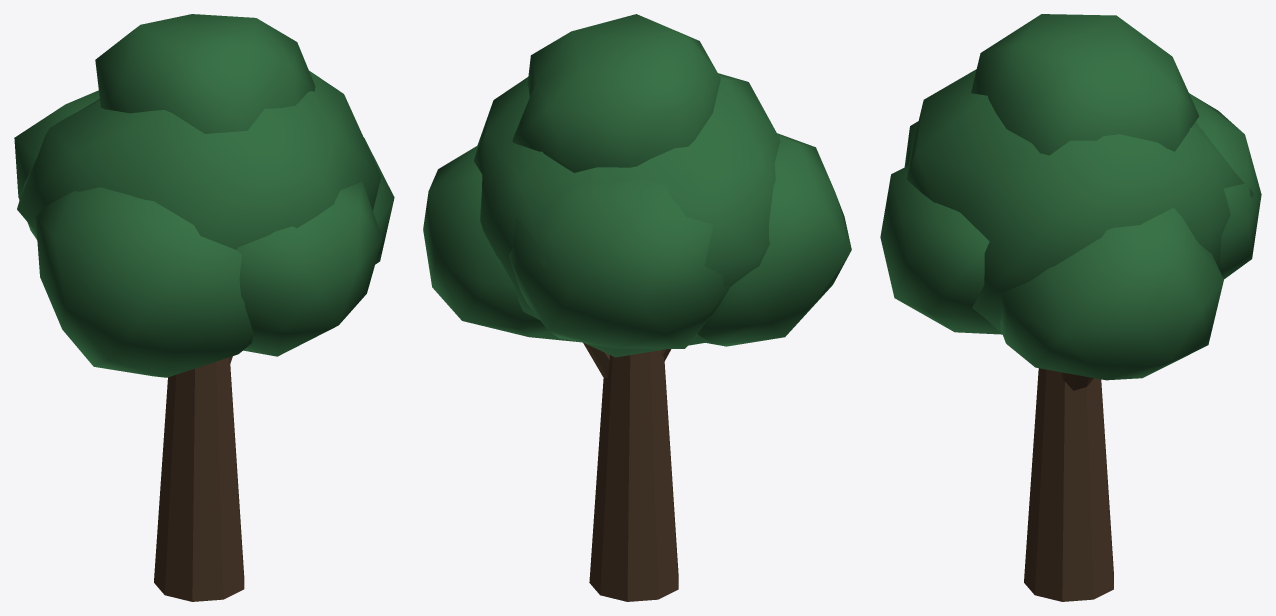
Rendered from broadleaf.glb.
3 renders of one model, left to right at view 1: azimuth 30°, elevation 25°; view 2: azimuth 150°, elevation 25°; view 3: azimuth 270°, elevation 25°, orthographic.
Parts seen in each view (by area): view 1: part-leaves, part-bark; view 2: part-leaves, part-bark; view 3: part-leaves, part-bark.
Boxes of the visible parts, box(x1,y1,x2,y2) form: part-leaves: box(14, 14, 394, 377); part-bark: box(154, 356, 244, 601); part-leaves: box(423, 14, 851, 357); part-bark: box(583, 342, 678, 601); part-leaves: box(880, 14, 1261, 380); part-bark: box(1024, 368, 1113, 601).
Bounding box in the file's own units: 23.69 × 33.94 × 21.31.
